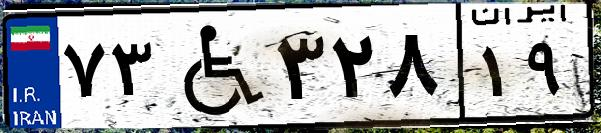1: (475, 38, 525, 113)
2: (330, 28, 385, 110)
3: (270, 28, 330, 110), (110, 28, 158, 98)
7: (57, 26, 110, 100)
8: (385, 28, 445, 110)
9: (525, 38, 570, 115)
ژ (معلولین و جانبازان): (158, 12, 270, 120)
